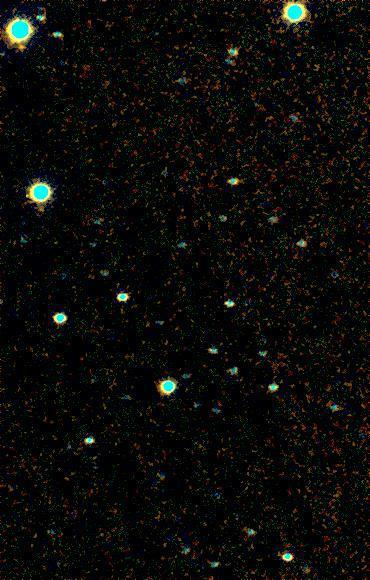star: (6, 31, 36, 61)
